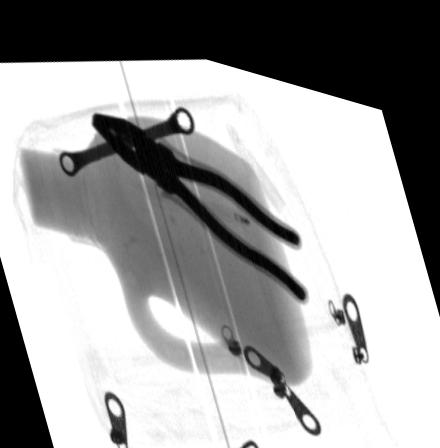Pliers: (89, 105, 307, 283)
Wrench: (57, 93, 195, 173)
